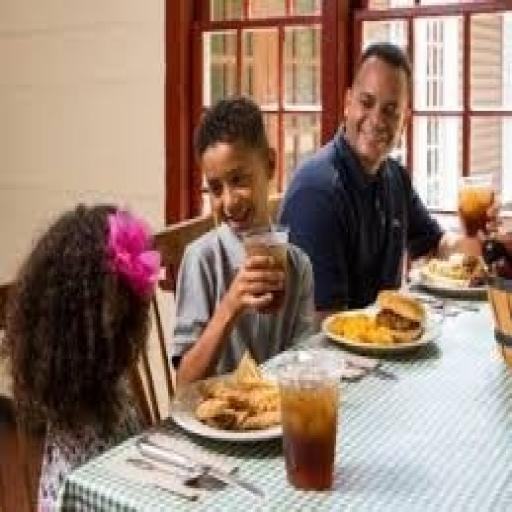eating: (168, 92, 318, 390)
